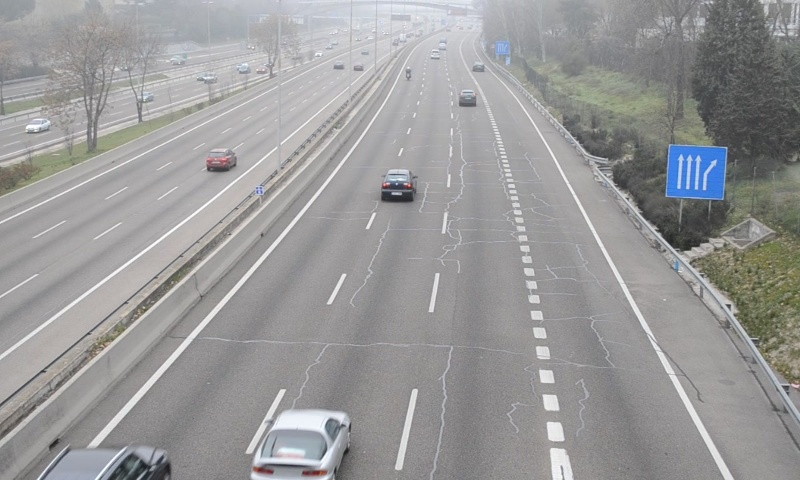car: (250, 409, 350, 480), (381, 169, 418, 202), (459, 88, 477, 107)
motorcycle: (405, 66, 412, 81)
